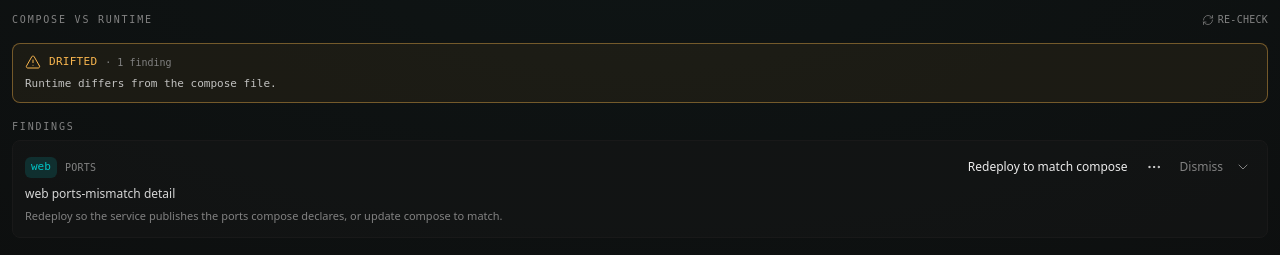
Test case: DriftPanel dismissals › dismisses until it changes on one click, against the stack route on the active node
Click the button with aria-label "Dismiss: web ports" at (1201, 167), box [1172,153,1231,181]
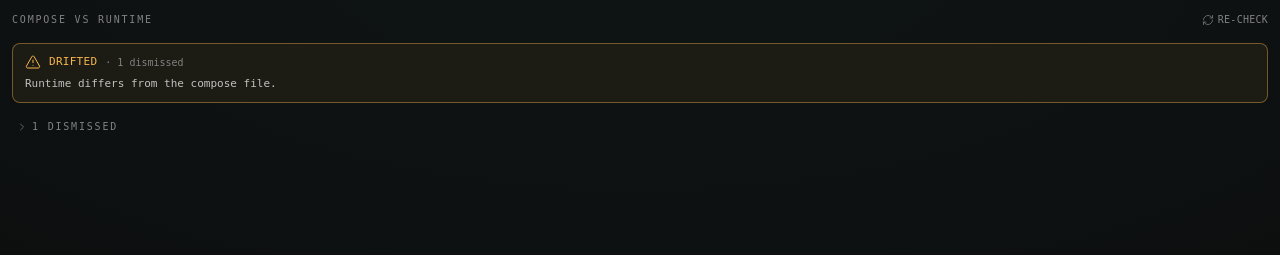
Check: the element with test id "drift-finding" is gone
Check: the element with test id "dismissed-section" reads "1 dismissed", box [12,119,122,134]
